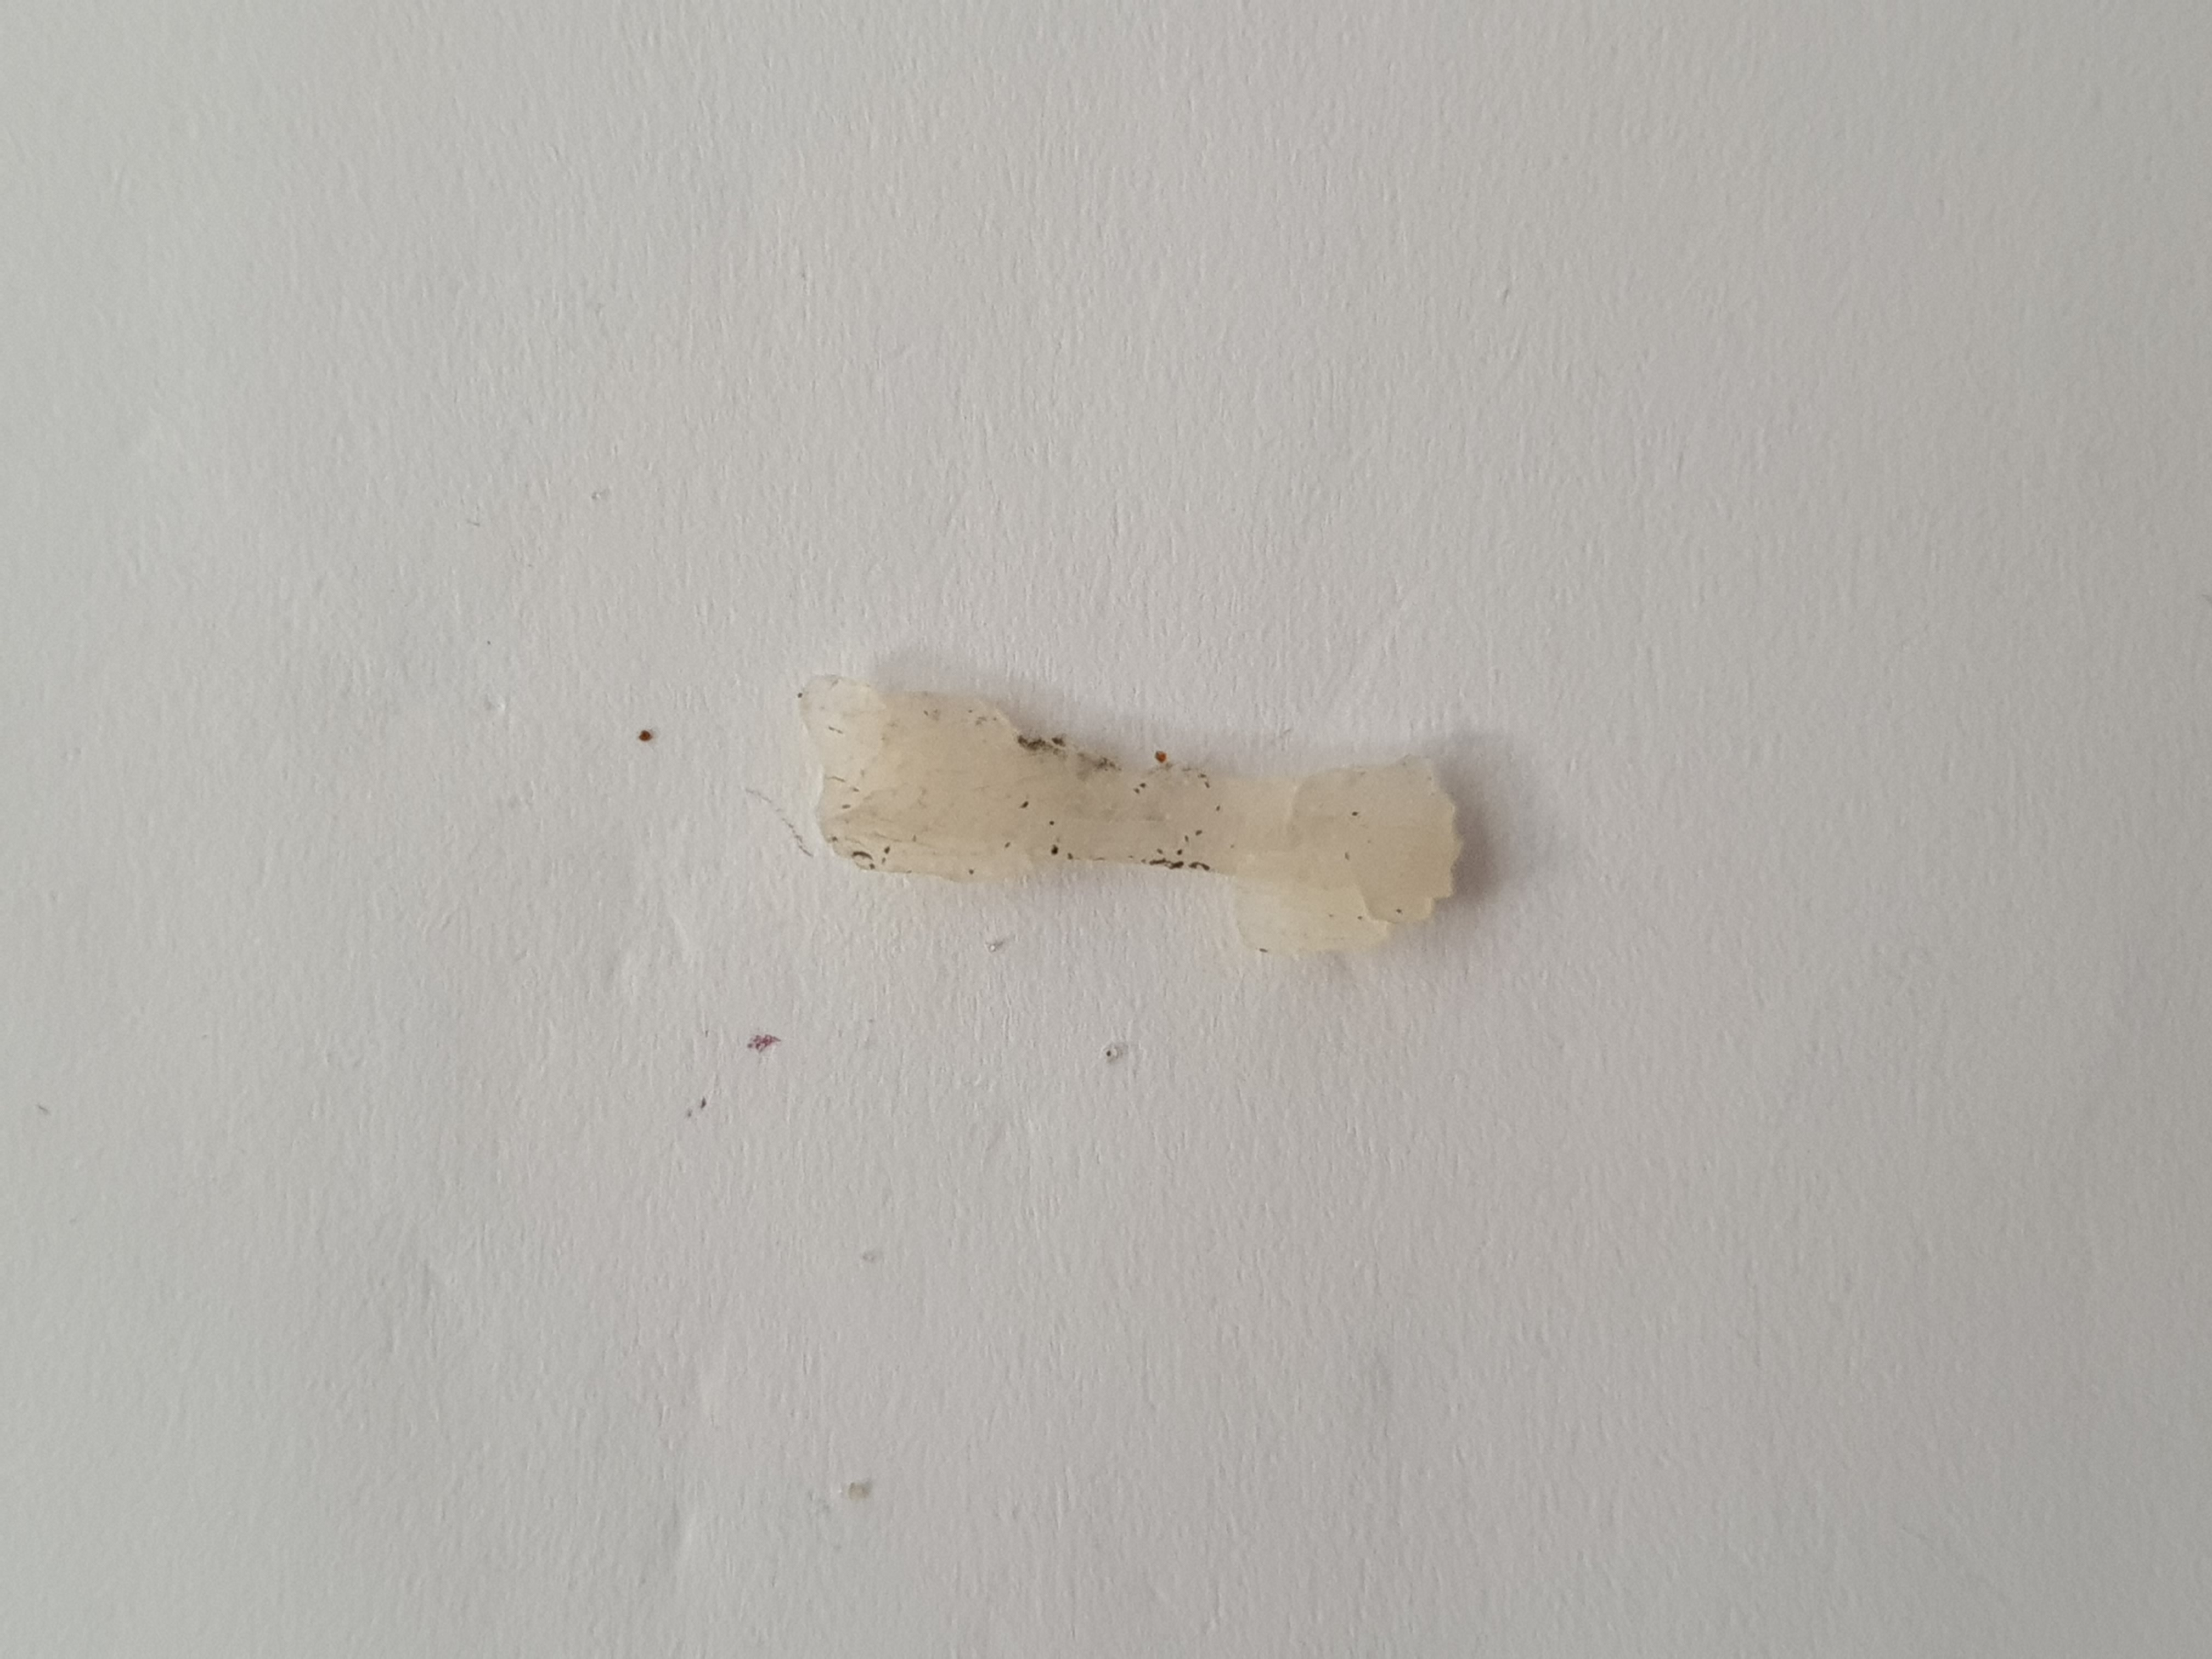plastic: (782, 645, 1474, 983)
